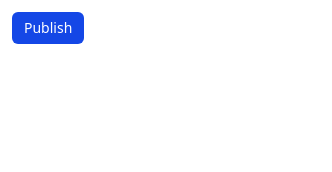
Test: PublicationActions › idle › Publish sends the first attempt, then shows a busy Sending…
The width and height of the screenshot is (332, 172).
Click the button "Publish".
click(48, 28)  # box [12,12,84,44]
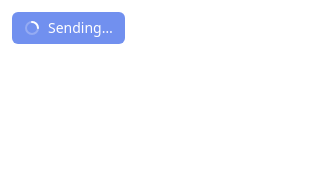
Expected: the button "Sending…" is disabled, [12,12,125,44]
